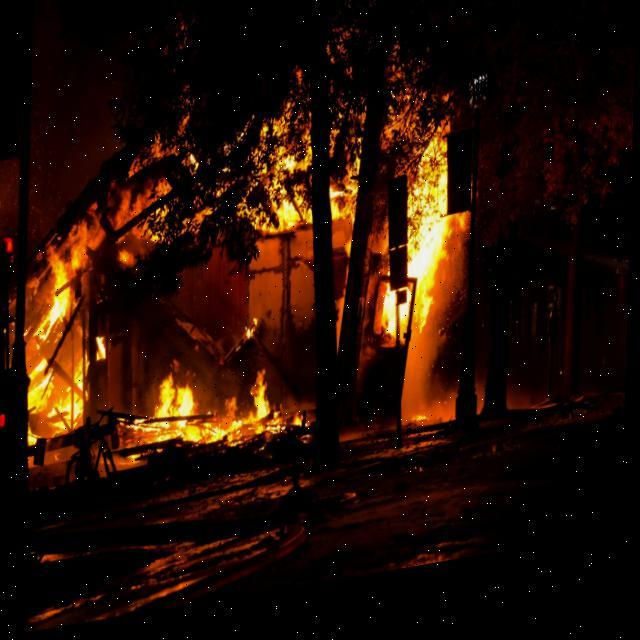Fire: (10, 0, 525, 516)
